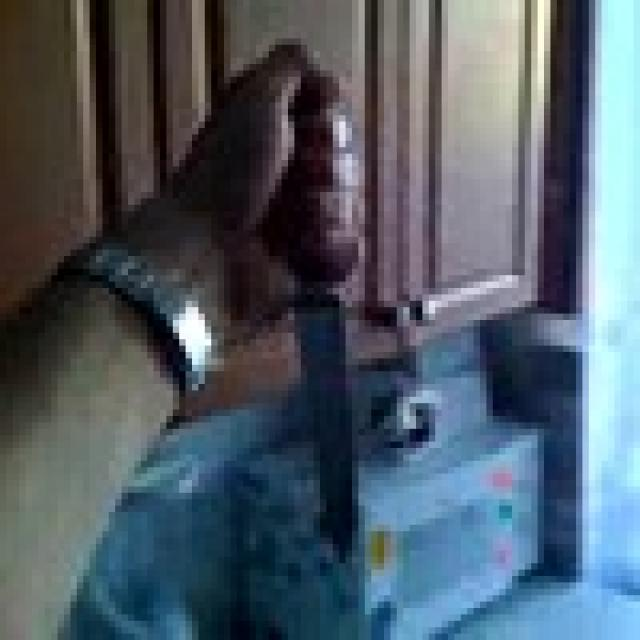Knife: (275, 58, 378, 563)
